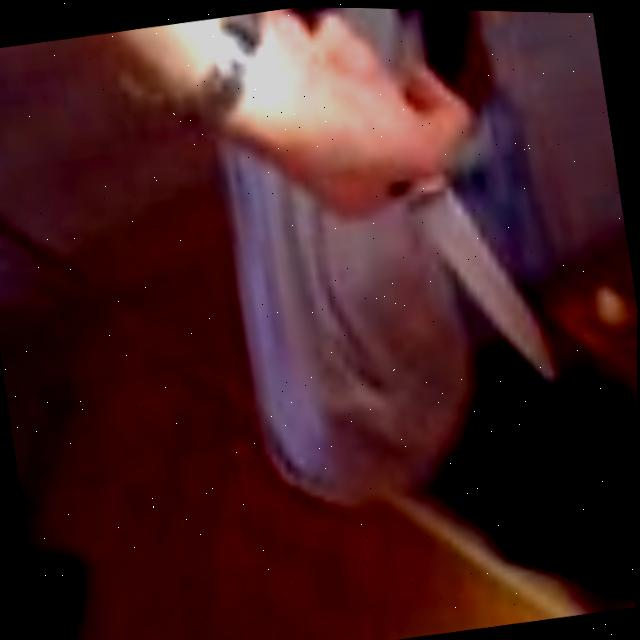pocket-knife: (319, 53, 572, 414)
